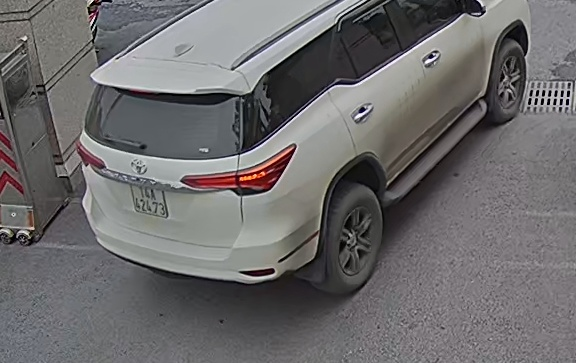vehicle plate: (123, 180, 170, 221)
